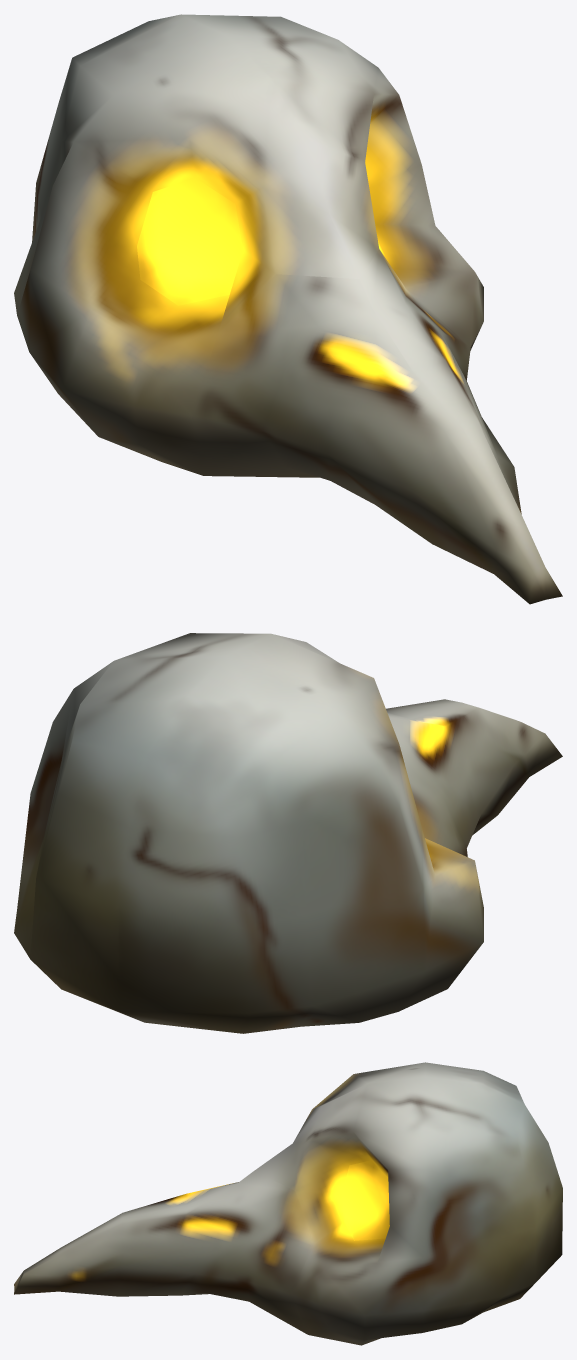
Rendered from SM_skull.fbx.
3 views of the same model, one above another, from view 1: azimuth 30°, elevation 25°; view 2: azimuth 150°, elevation 25°; view 3: azimuth 270°, elevation 25° (orthographic). The views are drawn at different scales.
Visible parts, largest first — view 1: skull; view 2: skull; view 3: skull.
Part boxes in pixels (box(x1,y1,x2,y2)): skull: box(14, 14, 562, 604); skull: box(14, 633, 562, 1033); skull: box(14, 1062, 562, 1345).
Size of the model in its own units: 14.81 by 12.45 by 26.03.
1 material, 1 textured.
